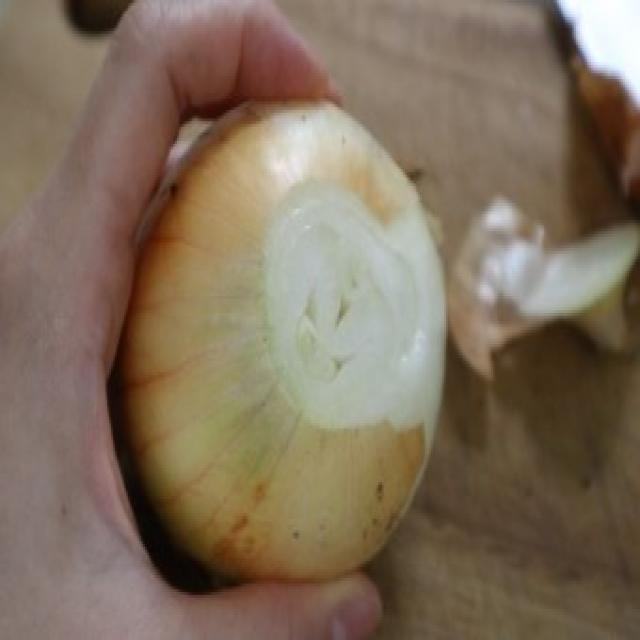onion: (104, 79, 472, 615)
